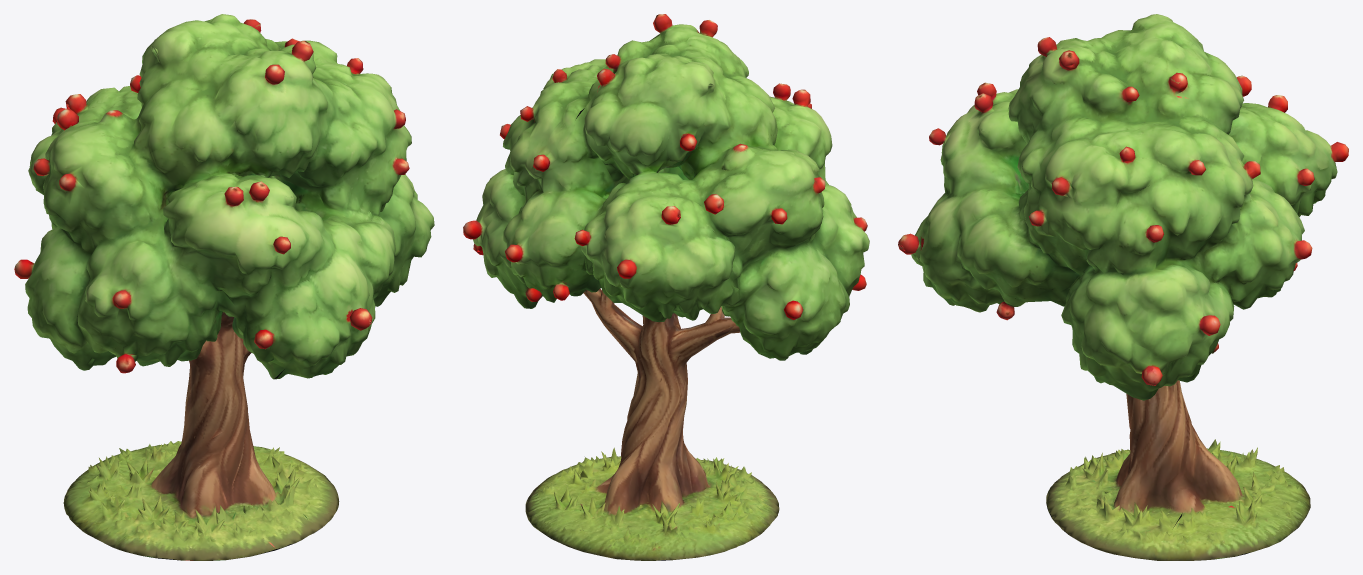
The model's file is Whimsical_Apple_Tree.fbx.
3 views of the same model, side by side, from view 1: azimuth 30°, elevation 25°; view 2: azimuth 150°, elevation 25°; view 3: azimuth 270°, elevation 25° (orthographic). The views are drawn at different scales.
Visible parts, largest first — view 1: Whimsical_Apple_Tree_LOD0; view 2: Whimsical_Apple_Tree_LOD0; view 3: Whimsical_Apple_Tree_LOD0.
Part boxes in pixels (x1,y1,x2,y2): Whimsical_Apple_Tree_LOD0: (14,14,434,560); Whimsical_Apple_Tree_LOD0: (463,14,869,560); Whimsical_Apple_Tree_LOD0: (898,14,1348,560).
Size of what is drawn, in the model's own units: 1.57 by 1.88 by 1.62.
1 material, 1 textured.
